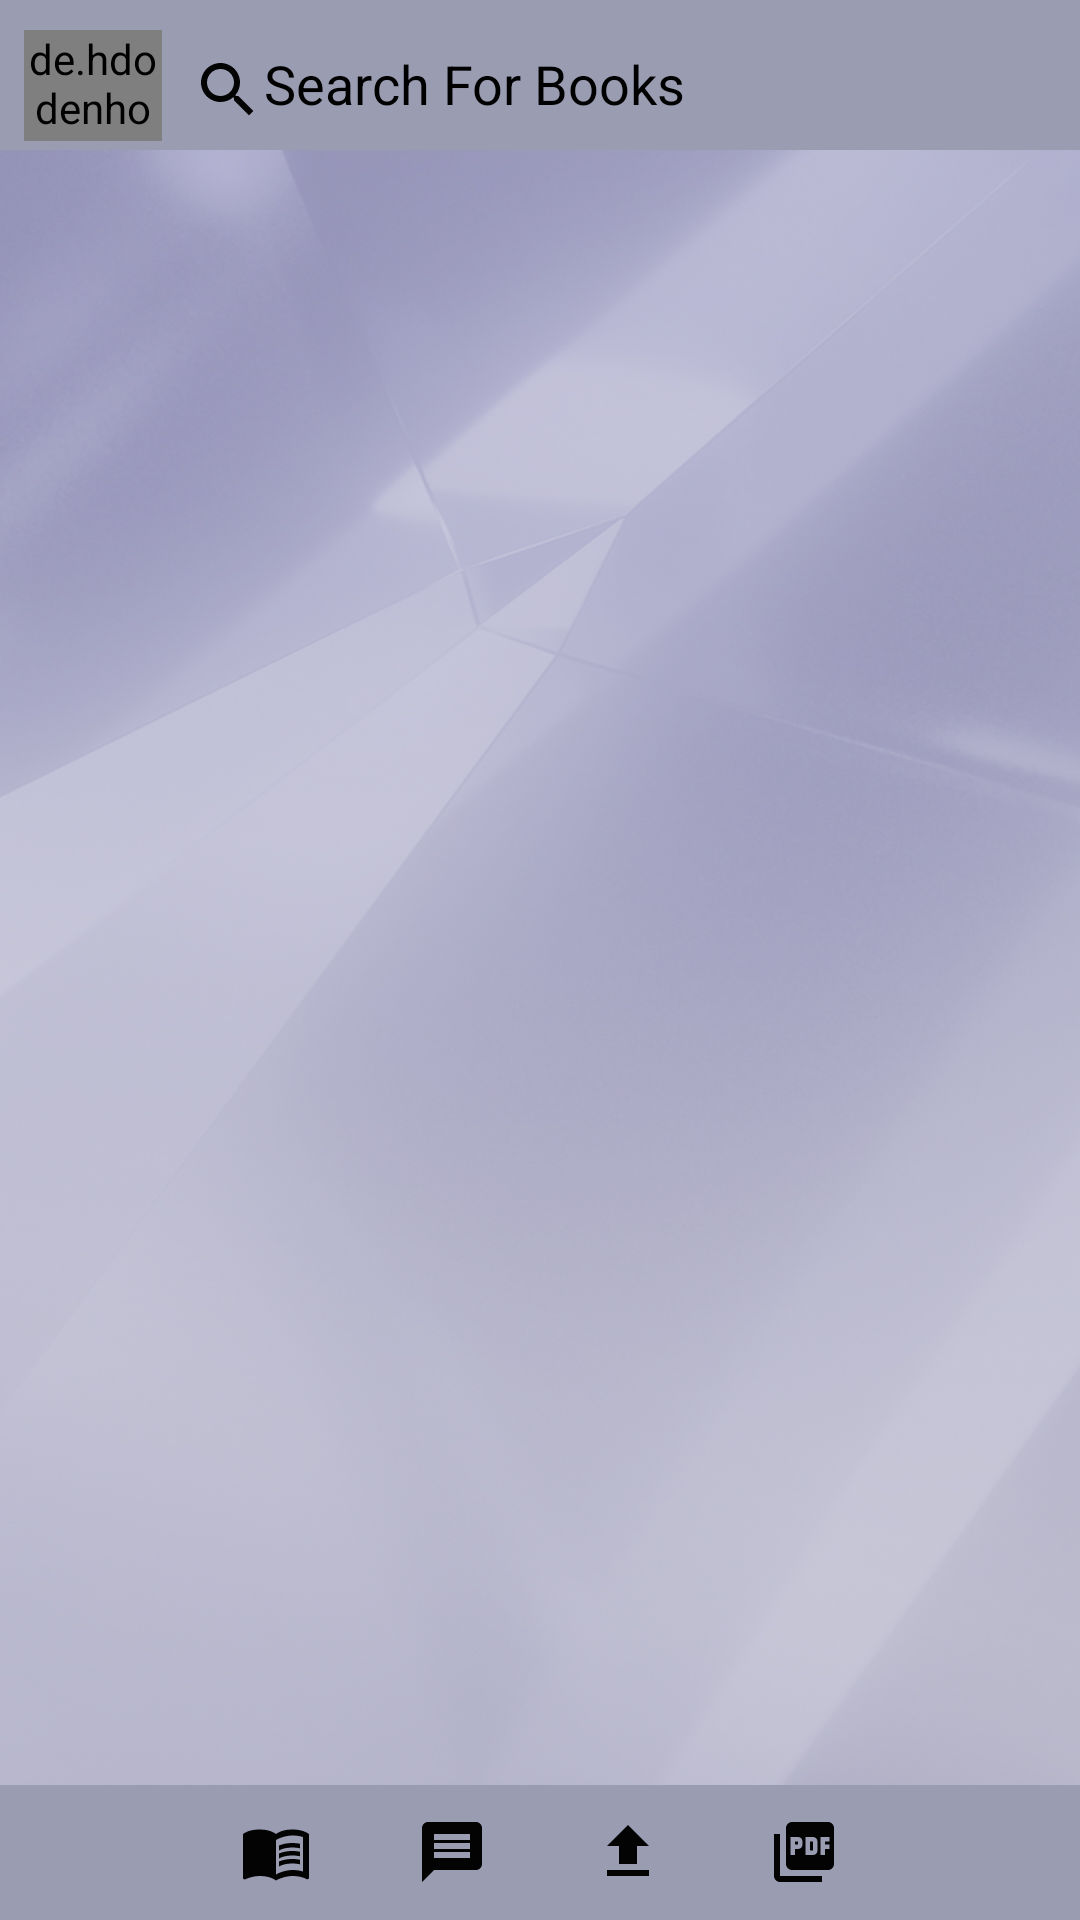

Icons on this 1080 x 1920 Android screen, each with the point to tap as point (x, y):
book: point (276, 1855)
message: point (452, 1852)
picture as pdf: point (804, 1852)
upload: point (628, 1850)
